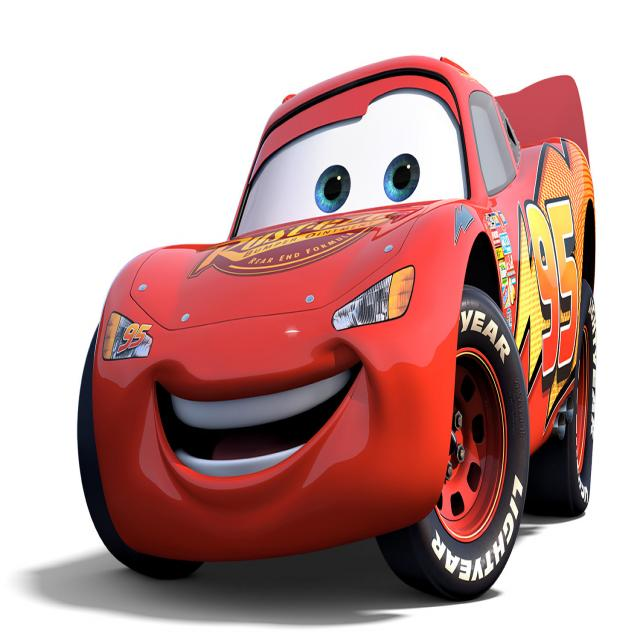car: (76, 6, 639, 640)
